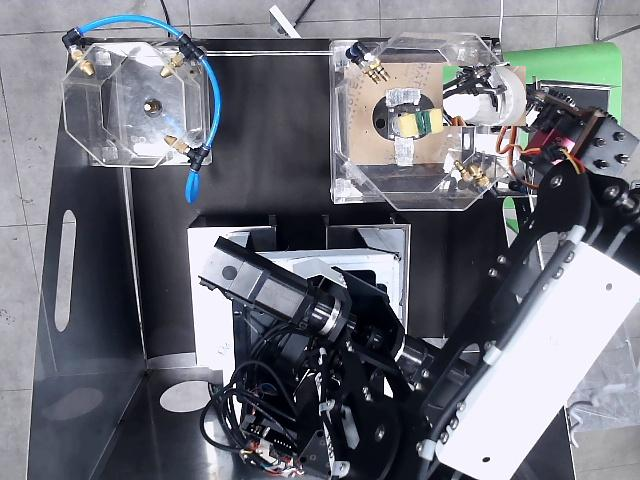cup: (443, 66, 526, 126)
